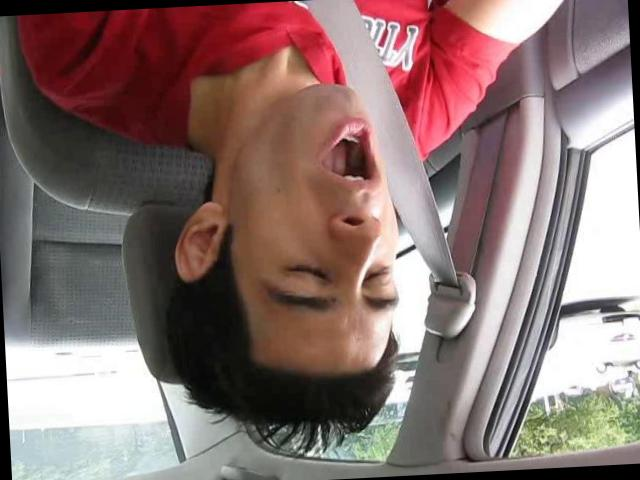eye_closed: (276, 254, 334, 291), (362, 258, 399, 290)
face: (244, 80, 408, 322)
mouth_open: (312, 114, 382, 196)
